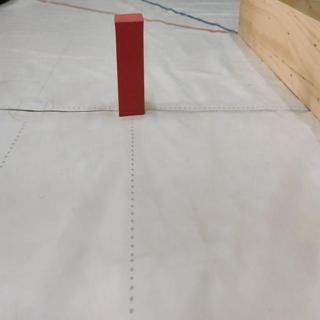redbox: (114, 13, 145, 116)
